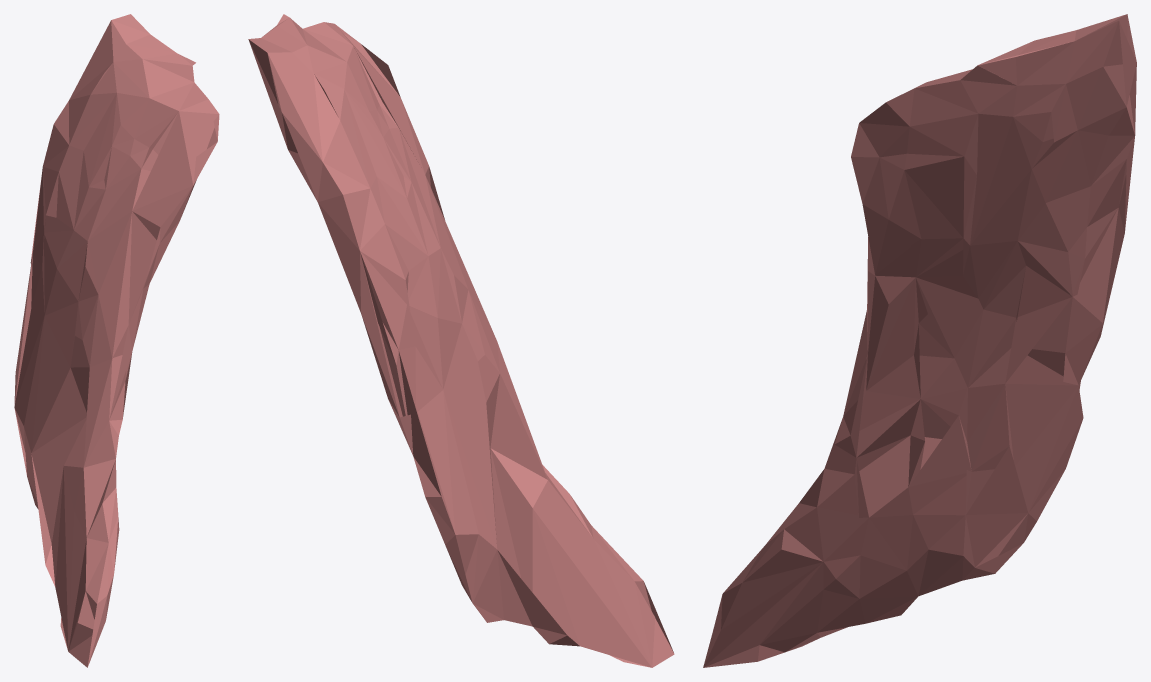
The model's file is Deep_part_of_masseter.l.glb.
The picture shows the model from 3 angles, left to right: view 1: azimuth 30°, elevation 25°; view 2: azimuth 150°, elevation 25°; view 3: azimuth 270°, elevation 25°; orthographic projection. The views are drawn at different scales.
Parts seen in each view (by area): view 1: Deep_part_of_masseter.l; view 2: Deep_part_of_masseter.l; view 3: Deep_part_of_masseter.l.
Part boxes in pixels (x1,y1,x2,y2): Deep_part_of_masseter.l: [14, 14, 219, 667]; Deep_part_of_masseter.l: [248, 14, 674, 667]; Deep_part_of_masseter.l: [703, 14, 1136, 667].
Size of the model in its own units: 0.0261 by 0.0635 by 0.032.
